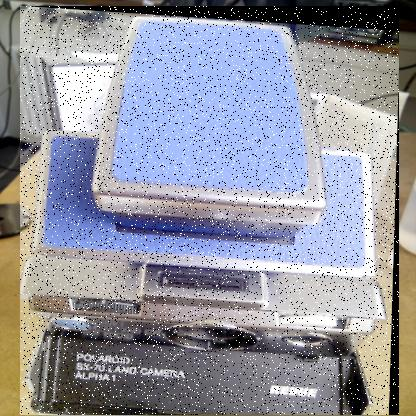Camera: (21, 7, 401, 416)
